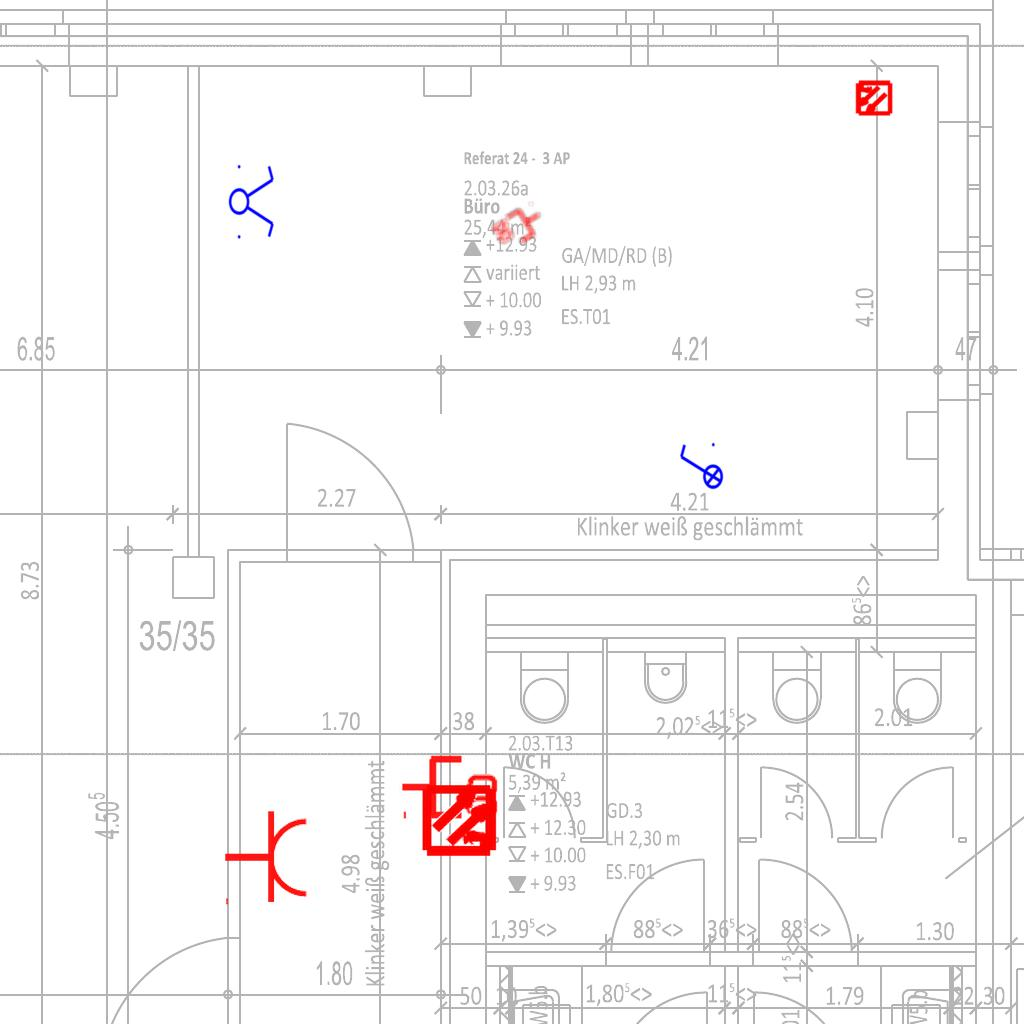Ausschalter_beleuchtet: (676, 440, 724, 496)
Datenanschluss_zweifach: (399, 751, 502, 820), (488, 199, 550, 256)
OT_Multisensormelder_(Kombination_RMO_WMD): (405, 764, 518, 877), (845, 70, 901, 126)
Schukosteckdose_einfach: (223, 809, 310, 909)
Serienschalter: (228, 159, 276, 243)
